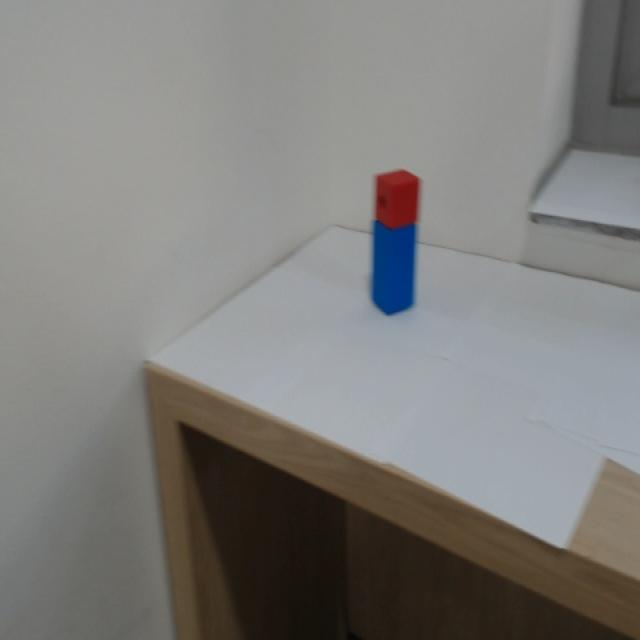cube: (355, 156, 431, 230)
